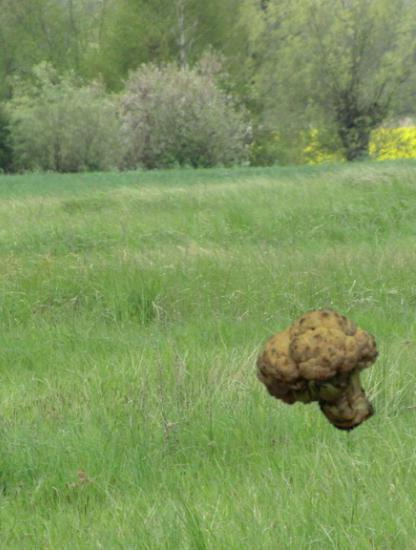Cauliflower: (262, 308, 392, 438)
